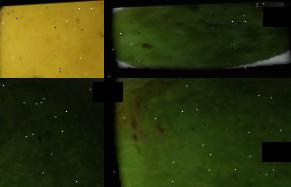Ripe: (0, 0, 104, 78)
Unripe: (104, 78, 291, 187), (104, 0, 291, 78), (0, 78, 104, 187)
